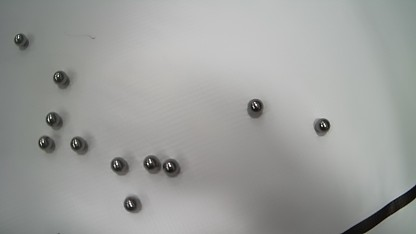ironball: (110, 156, 128, 174), (163, 158, 180, 177), (143, 155, 160, 173), (45, 111, 62, 129), (70, 136, 87, 154), (247, 98, 263, 117), (53, 70, 69, 88), (38, 135, 54, 152), (123, 196, 140, 212), (314, 118, 330, 134), (14, 33, 28, 49)
